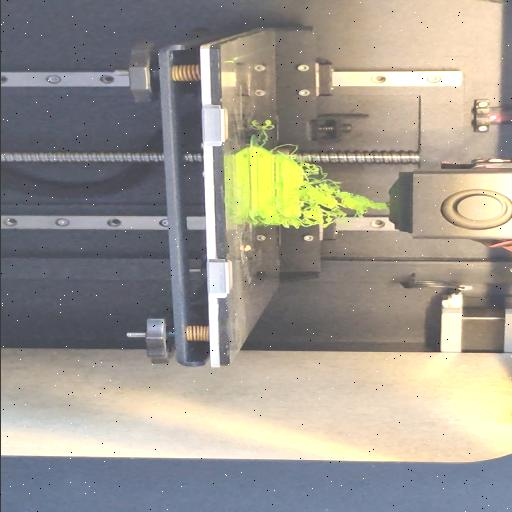spaghetti: (296, 159, 386, 229), (256, 120, 272, 150), (251, 216, 297, 226), (272, 143, 300, 155)
